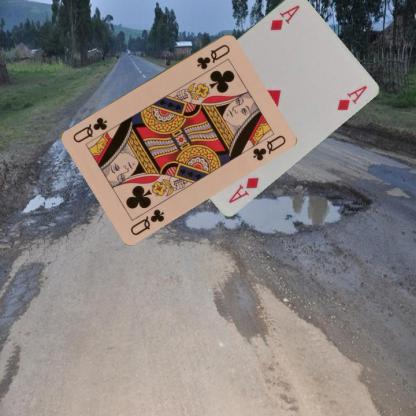Ad: (226, 174, 260, 204), (268, 2, 301, 32)
Qc: (194, 41, 232, 71), (128, 206, 166, 236)
